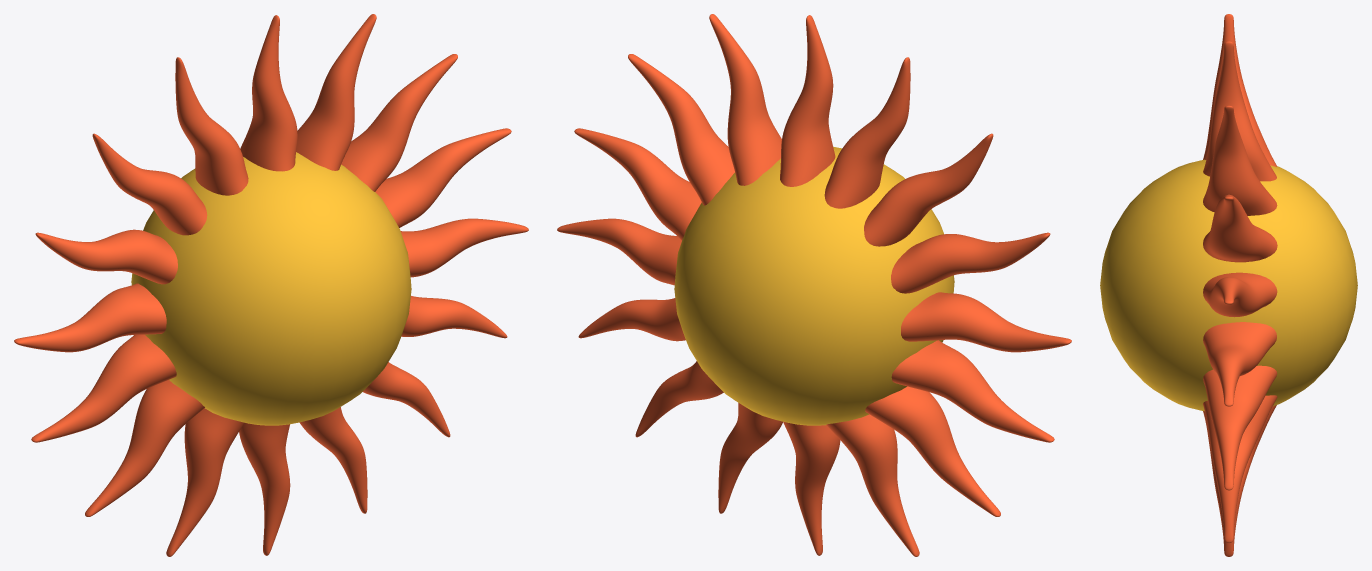
Rendered from Sun 03.glb.
3 renders of one model, left to right at view 1: azimuth 30°, elevation 25°; view 2: azimuth 150°, elevation 25°; view 3: azimuth 270°, elevation 25°, orthographic. The views are drawn at different scales.
Parts seen in each view (by area): view 1: Sphere, Plane.021, Plane.011, Plane.005, Plane, Plane.001, Plane.006, Plane.024, Plane.020, Plane.017, Plane.022, Plane.007 (+5 smaller); view 2: Sphere, Plane.021, Plane.011, Plane, Plane.006, Plane.005, Plane.024, Plane.022, Plane.001, Plane.007, Plane.020, Plane.017 (+5 smaller); view 3: Sphere, Plane.011, Plane.018, Plane.002, Plane.001, Plane, Plane.003, Plane.017, Plane.024, Plane.019.
Boxes of the visible parts, bbox=[...] form: Sphere: bbox=[131, 152, 411, 425]; Plane.021: bbox=[31, 334, 176, 442]; Plane.011: bbox=[296, 14, 376, 170]; Plane.005: bbox=[85, 380, 204, 516]; Plane: bbox=[240, 15, 297, 171]; Plane.001: bbox=[341, 54, 457, 191]; Plane.006: bbox=[14, 283, 166, 352]; Plane.024: bbox=[175, 57, 248, 195]; Plane.020: bbox=[166, 408, 244, 556]; Plane.017: bbox=[375, 128, 511, 227]; Plane.022: bbox=[35, 229, 177, 284]; Plane.007: bbox=[92, 133, 207, 235]; Sphere: bbox=[674, 146, 954, 425]; Plane.021: bbox=[891, 340, 1054, 442]; Plane.011: bbox=[709, 14, 781, 185]; Plane: bbox=[780, 15, 835, 186]; Plane.006: bbox=[901, 292, 1071, 352]; Plane.005: bbox=[865, 386, 1000, 516]; Plane.024: bbox=[824, 57, 910, 208]; Plane.022: bbox=[891, 232, 1050, 293]; Plane.001: bbox=[628, 54, 734, 205]; Plane.007: bbox=[864, 133, 993, 246]; Plane.020: bbox=[826, 414, 919, 556]; Plane.017: bbox=[574, 128, 701, 240]; Sphere: bbox=[1100, 159, 1357, 411]; Plane.011: bbox=[1203, 105, 1277, 215]; Plane.018: bbox=[1203, 365, 1277, 490]; Plane.002: bbox=[1203, 322, 1276, 406]; Plane.001: bbox=[1203, 194, 1277, 262]; Plane: bbox=[1203, 41, 1276, 181]; Plane.003: bbox=[1203, 395, 1277, 543]; Plane.017: bbox=[1203, 272, 1277, 317]; Plane.024: bbox=[1203, 14, 1277, 166]; Plane.019: bbox=[1203, 405, 1276, 556].
Bounding box in the file's own units: 3.03 × 3.03 × 1.44.
